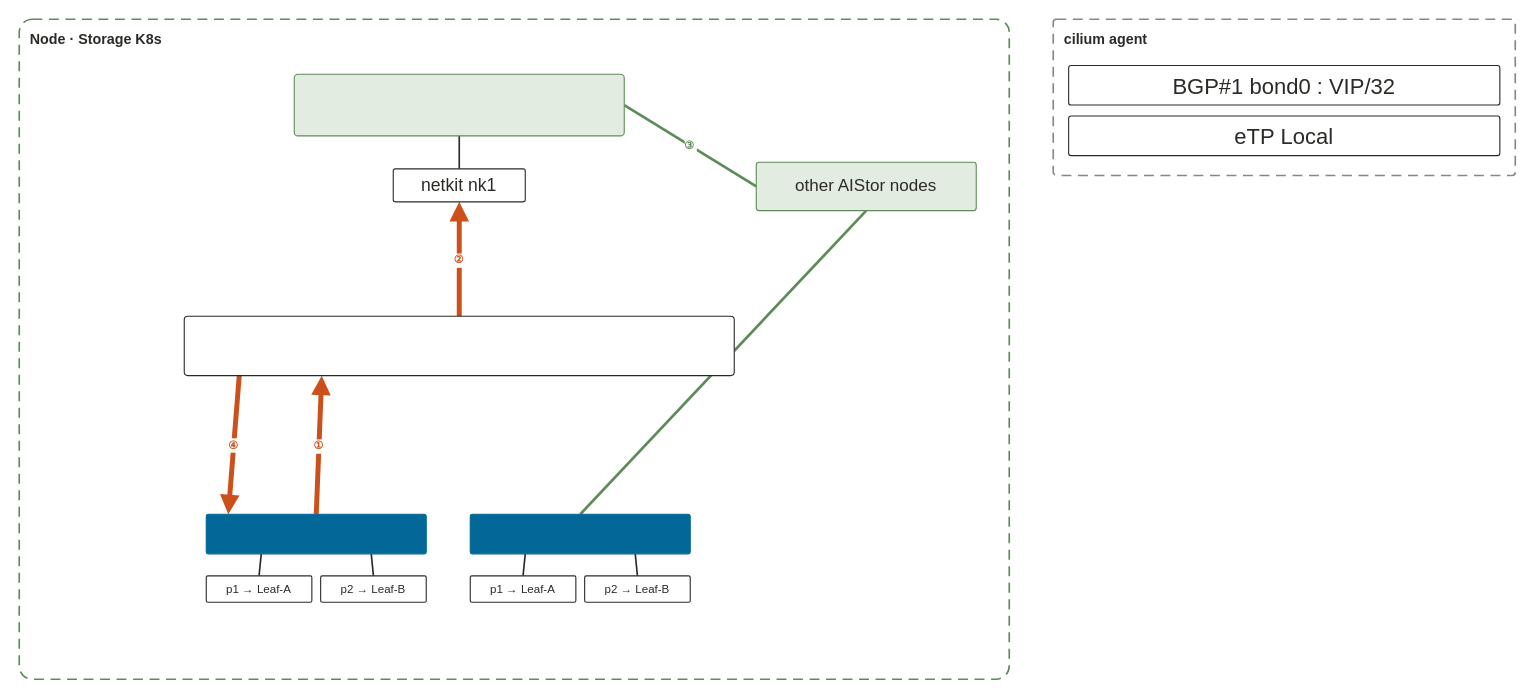
Some shapes in this 1536 by 700 pixel diagram are drawn without their labels. The shapes that lost their labels are listed below. From the top down, each one's box as (x1, y1, x2, y2) in pixels, then its label:
(293, 73, 624, 136): AIStor pod 10.30.1.15
(183, 315, 734, 376): eBPF LB (XDP · tc) VIP → P-IP (local only)
(205, 513, 426, 554): bond0 · PUBLIC
(469, 513, 690, 554): bond1 · PRIVATE
